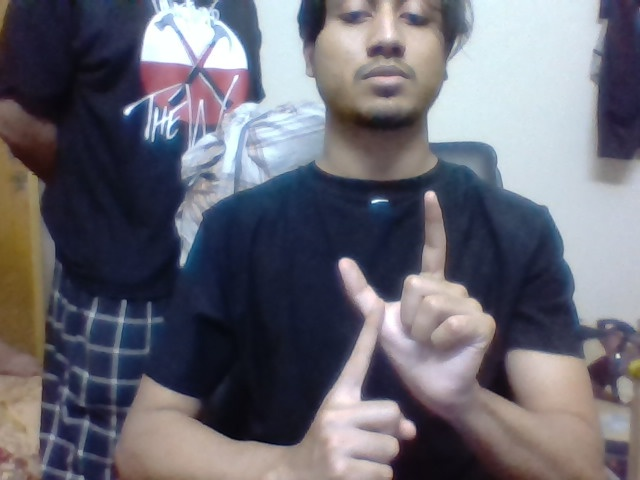Y: (326, 186, 452, 367)
